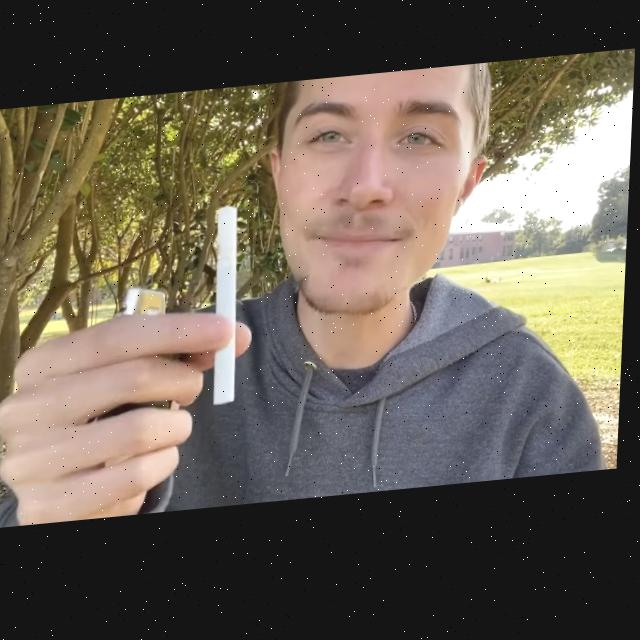cigarette: (214, 209, 246, 410)
